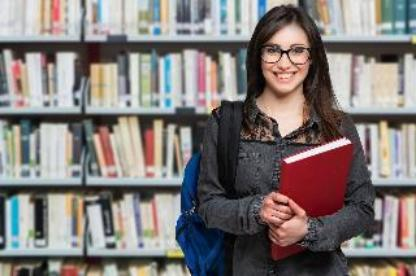person: (172, 1, 380, 276)
